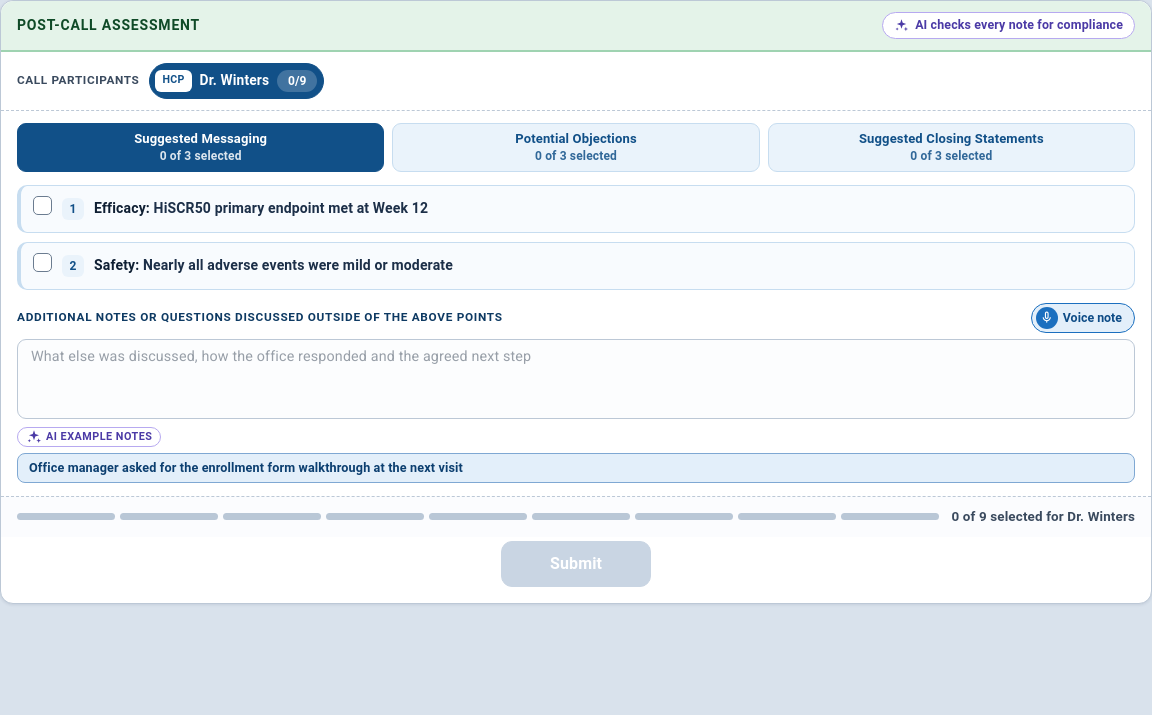
Test: Post-Call Assessment › the AI example notes follow the reception the rep picks
Click the checkbox named "Raised on the call: HiSCR50 primary endpoint met at Week 12".
click(42, 209)  # box [33,196,52,222]
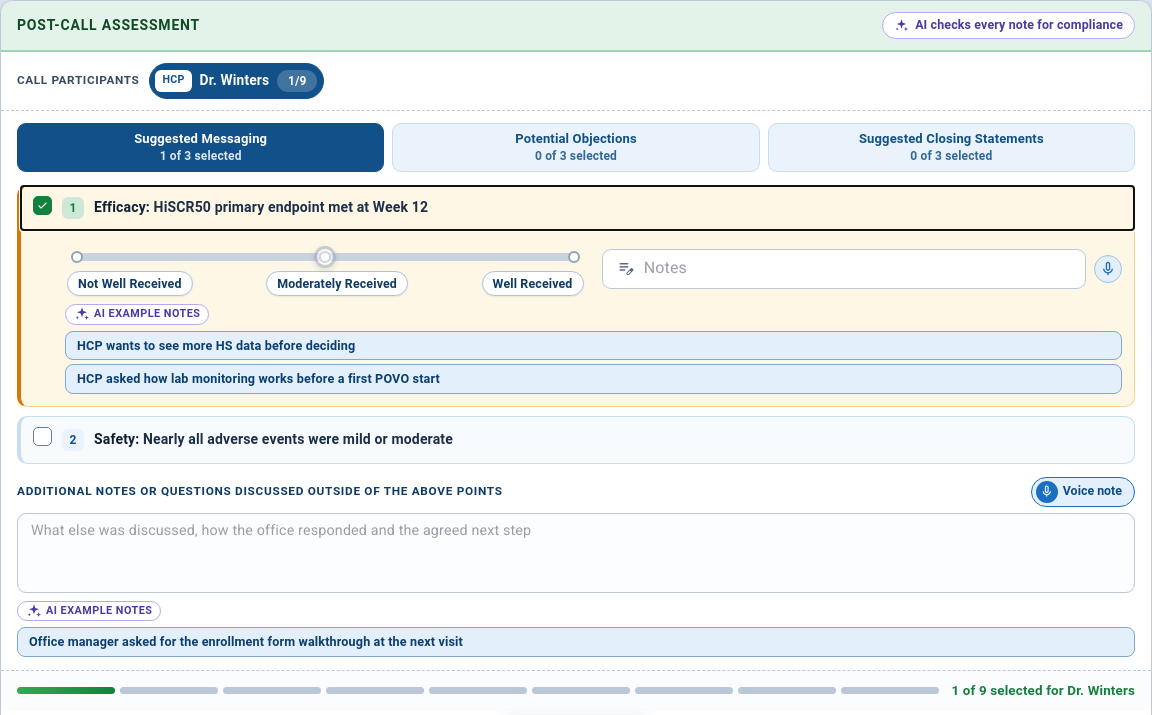
Now the button "HCP wants to see more HS data before deciding" is shown, box [65,330,1122,360]
Click the button "Well Received".
click(533, 284)  # box [482,271,584,296]
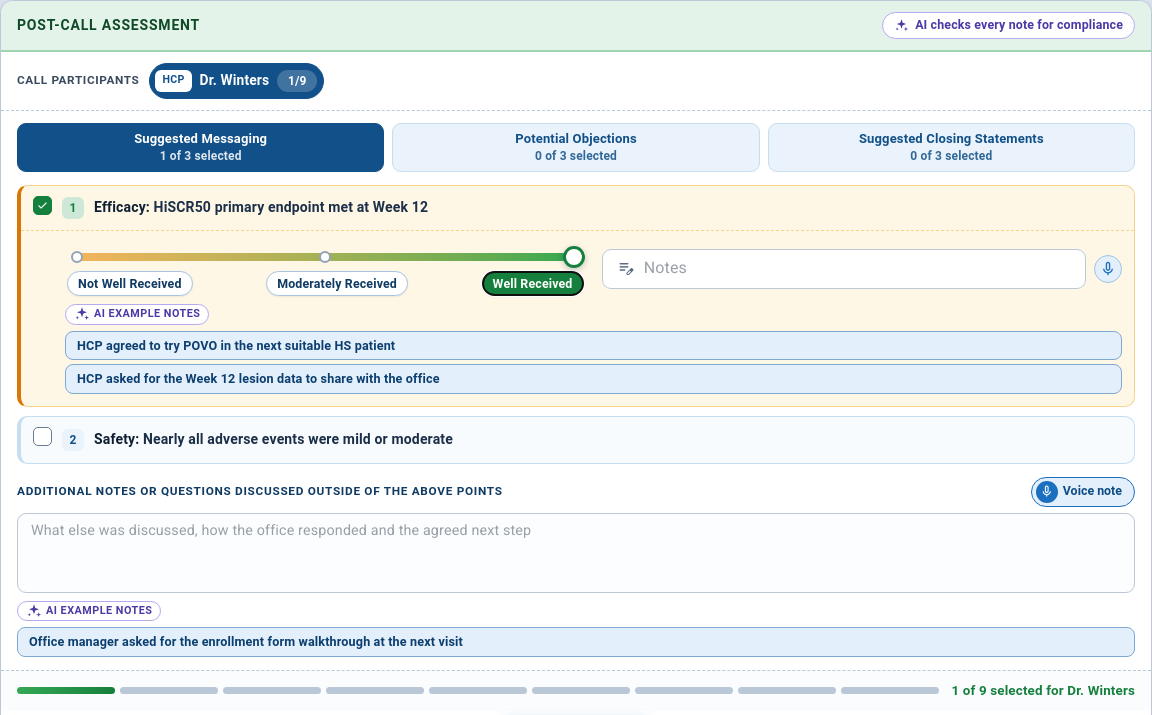
Now the button "HCP agreed to try POVO in the next suitable HS patient" is shown, box [65,330,1122,360]
